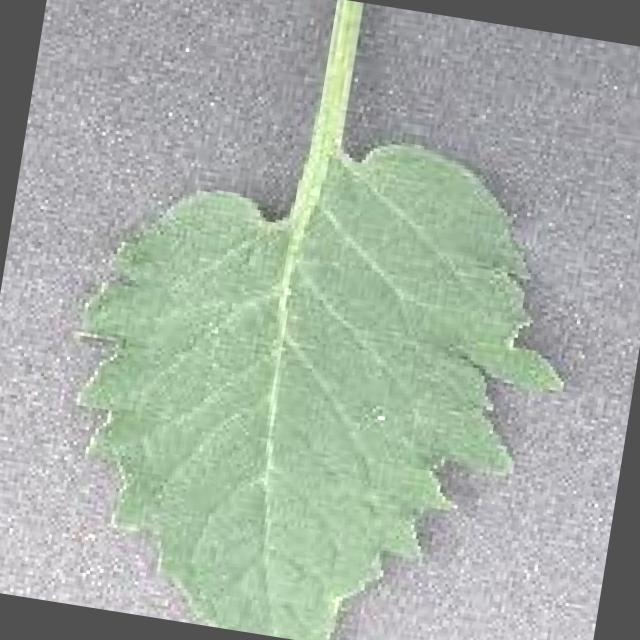healthy: (67, 8, 568, 640)
